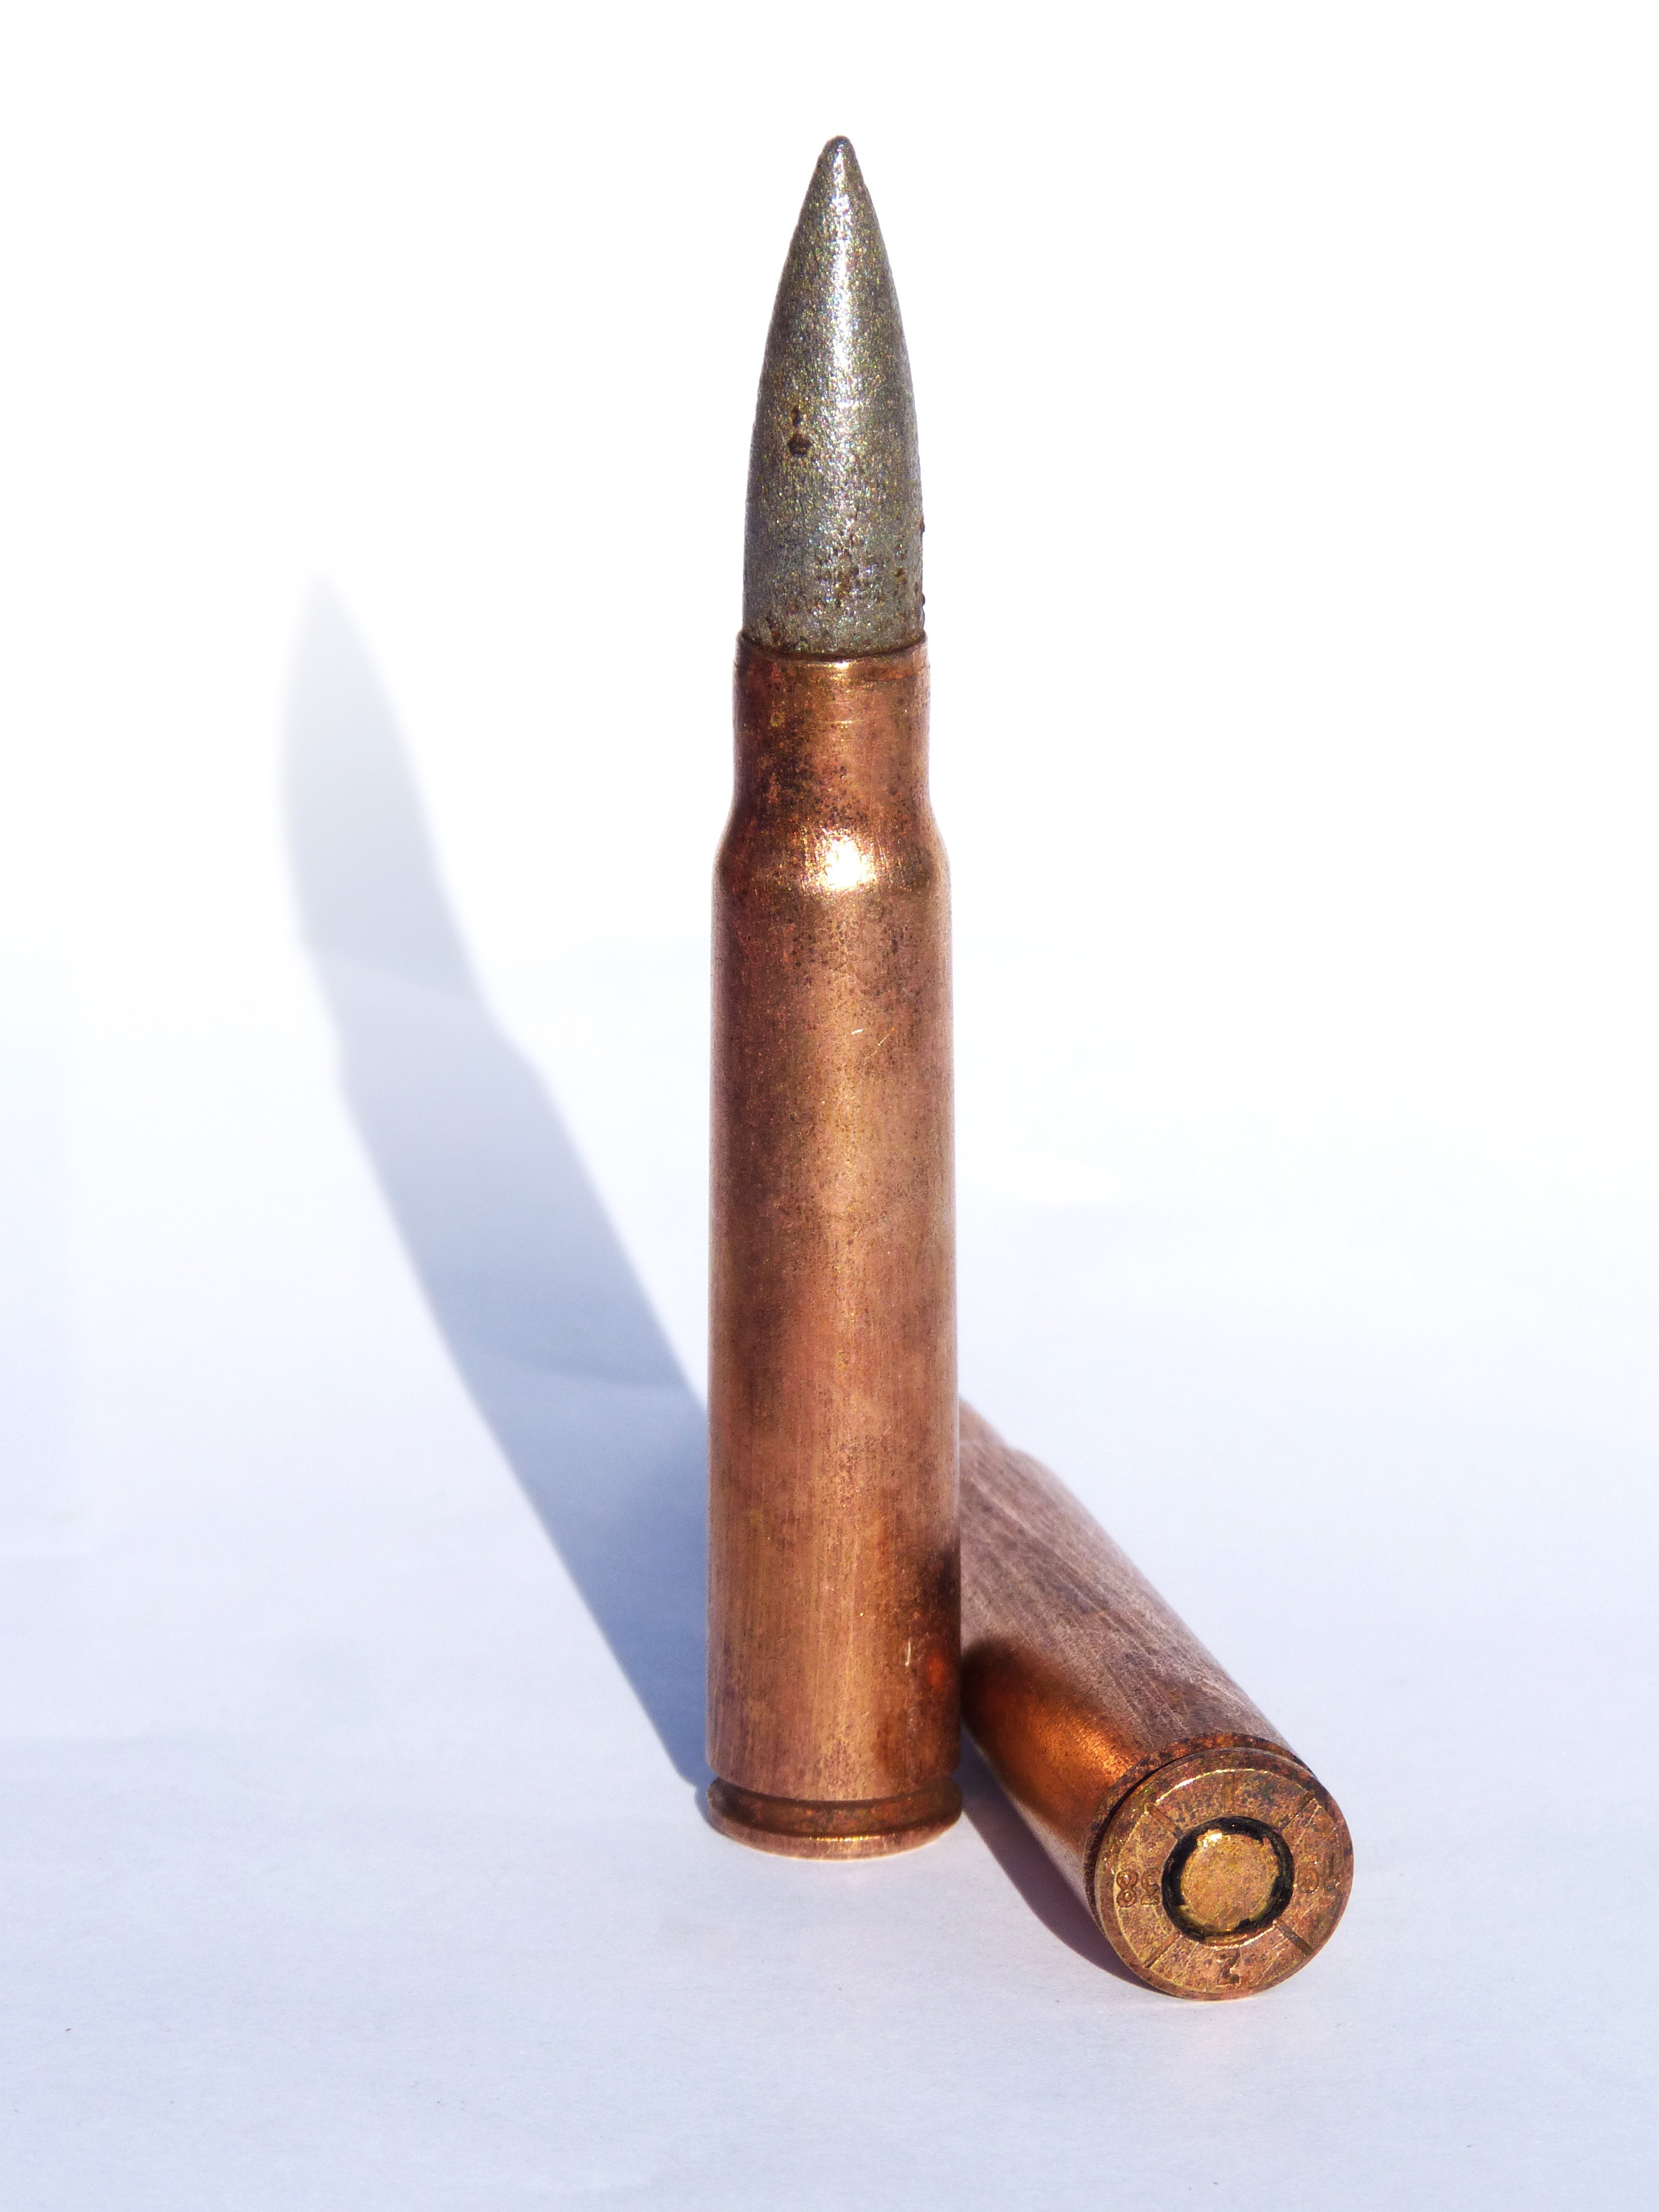bullet: (697, 118, 960, 1881)
